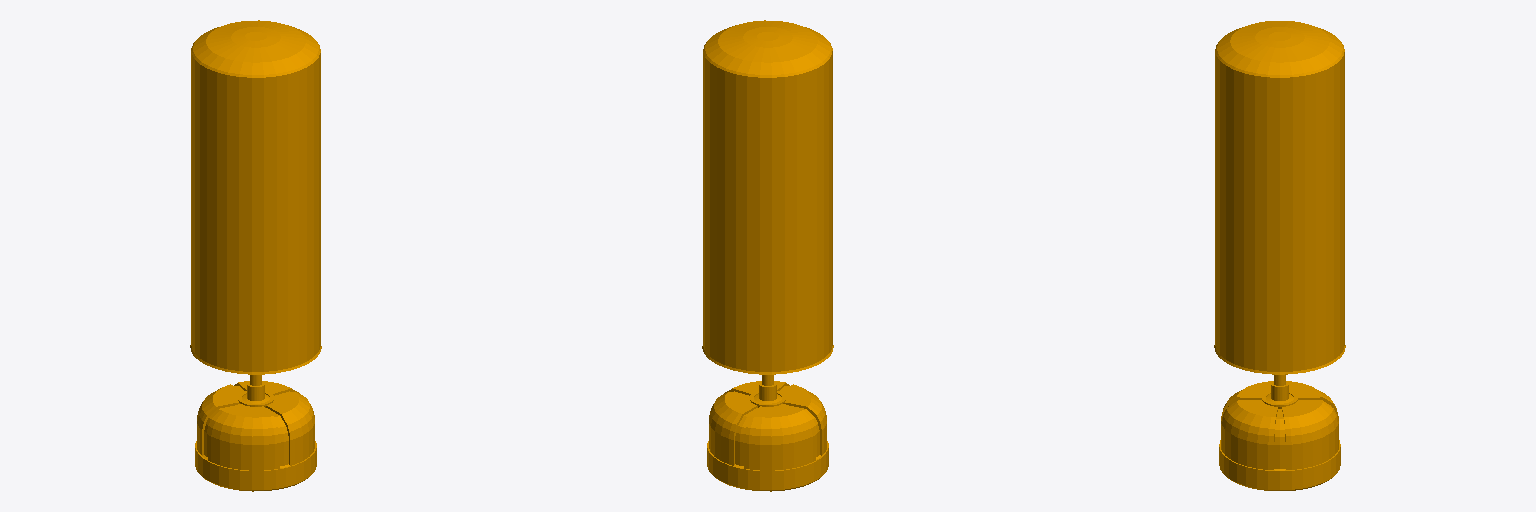
URDF robot description (sofa):
<?xml version="1.0"?>
<robot name="sofa">
    <link name="sit">
        <visual><geometry><mesh filename="../mesh/strike/target_full.obj"/></geometry></visual>
        <collision><geometry><mesh filename="../mesh/strike/target_full.obj"/></geometry></collision>
    </link>
</robot>

--- Render facts (derived) ---
The picture shows the robot from 3 angles, left to right: view 1: azimuth 30°, elevation 25°; view 2: azimuth 150°, elevation 25°; view 3: azimuth 270°, elevation 25°; orthographic projection.
Model sofa with 1 links and 0 joints (none), rooted at sit, posed all joints at 0.
Visible links, largest first — view 1: sit; view 2: sit; view 3: sit.
Link boxes in pixels (<box>): sit: <box>190,20,321,491</box>; sit: <box>702,20,833,491</box>; sit: <box>1214,21,1345,490</box>.
Size in the robot's own frame: 0.5165 by 0.5165 by 1.86 metres.
1 mesh visuals loaded from 1 distinct referenced files (1 OBJ).